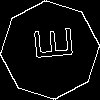E: (25, 25, 73, 63)
